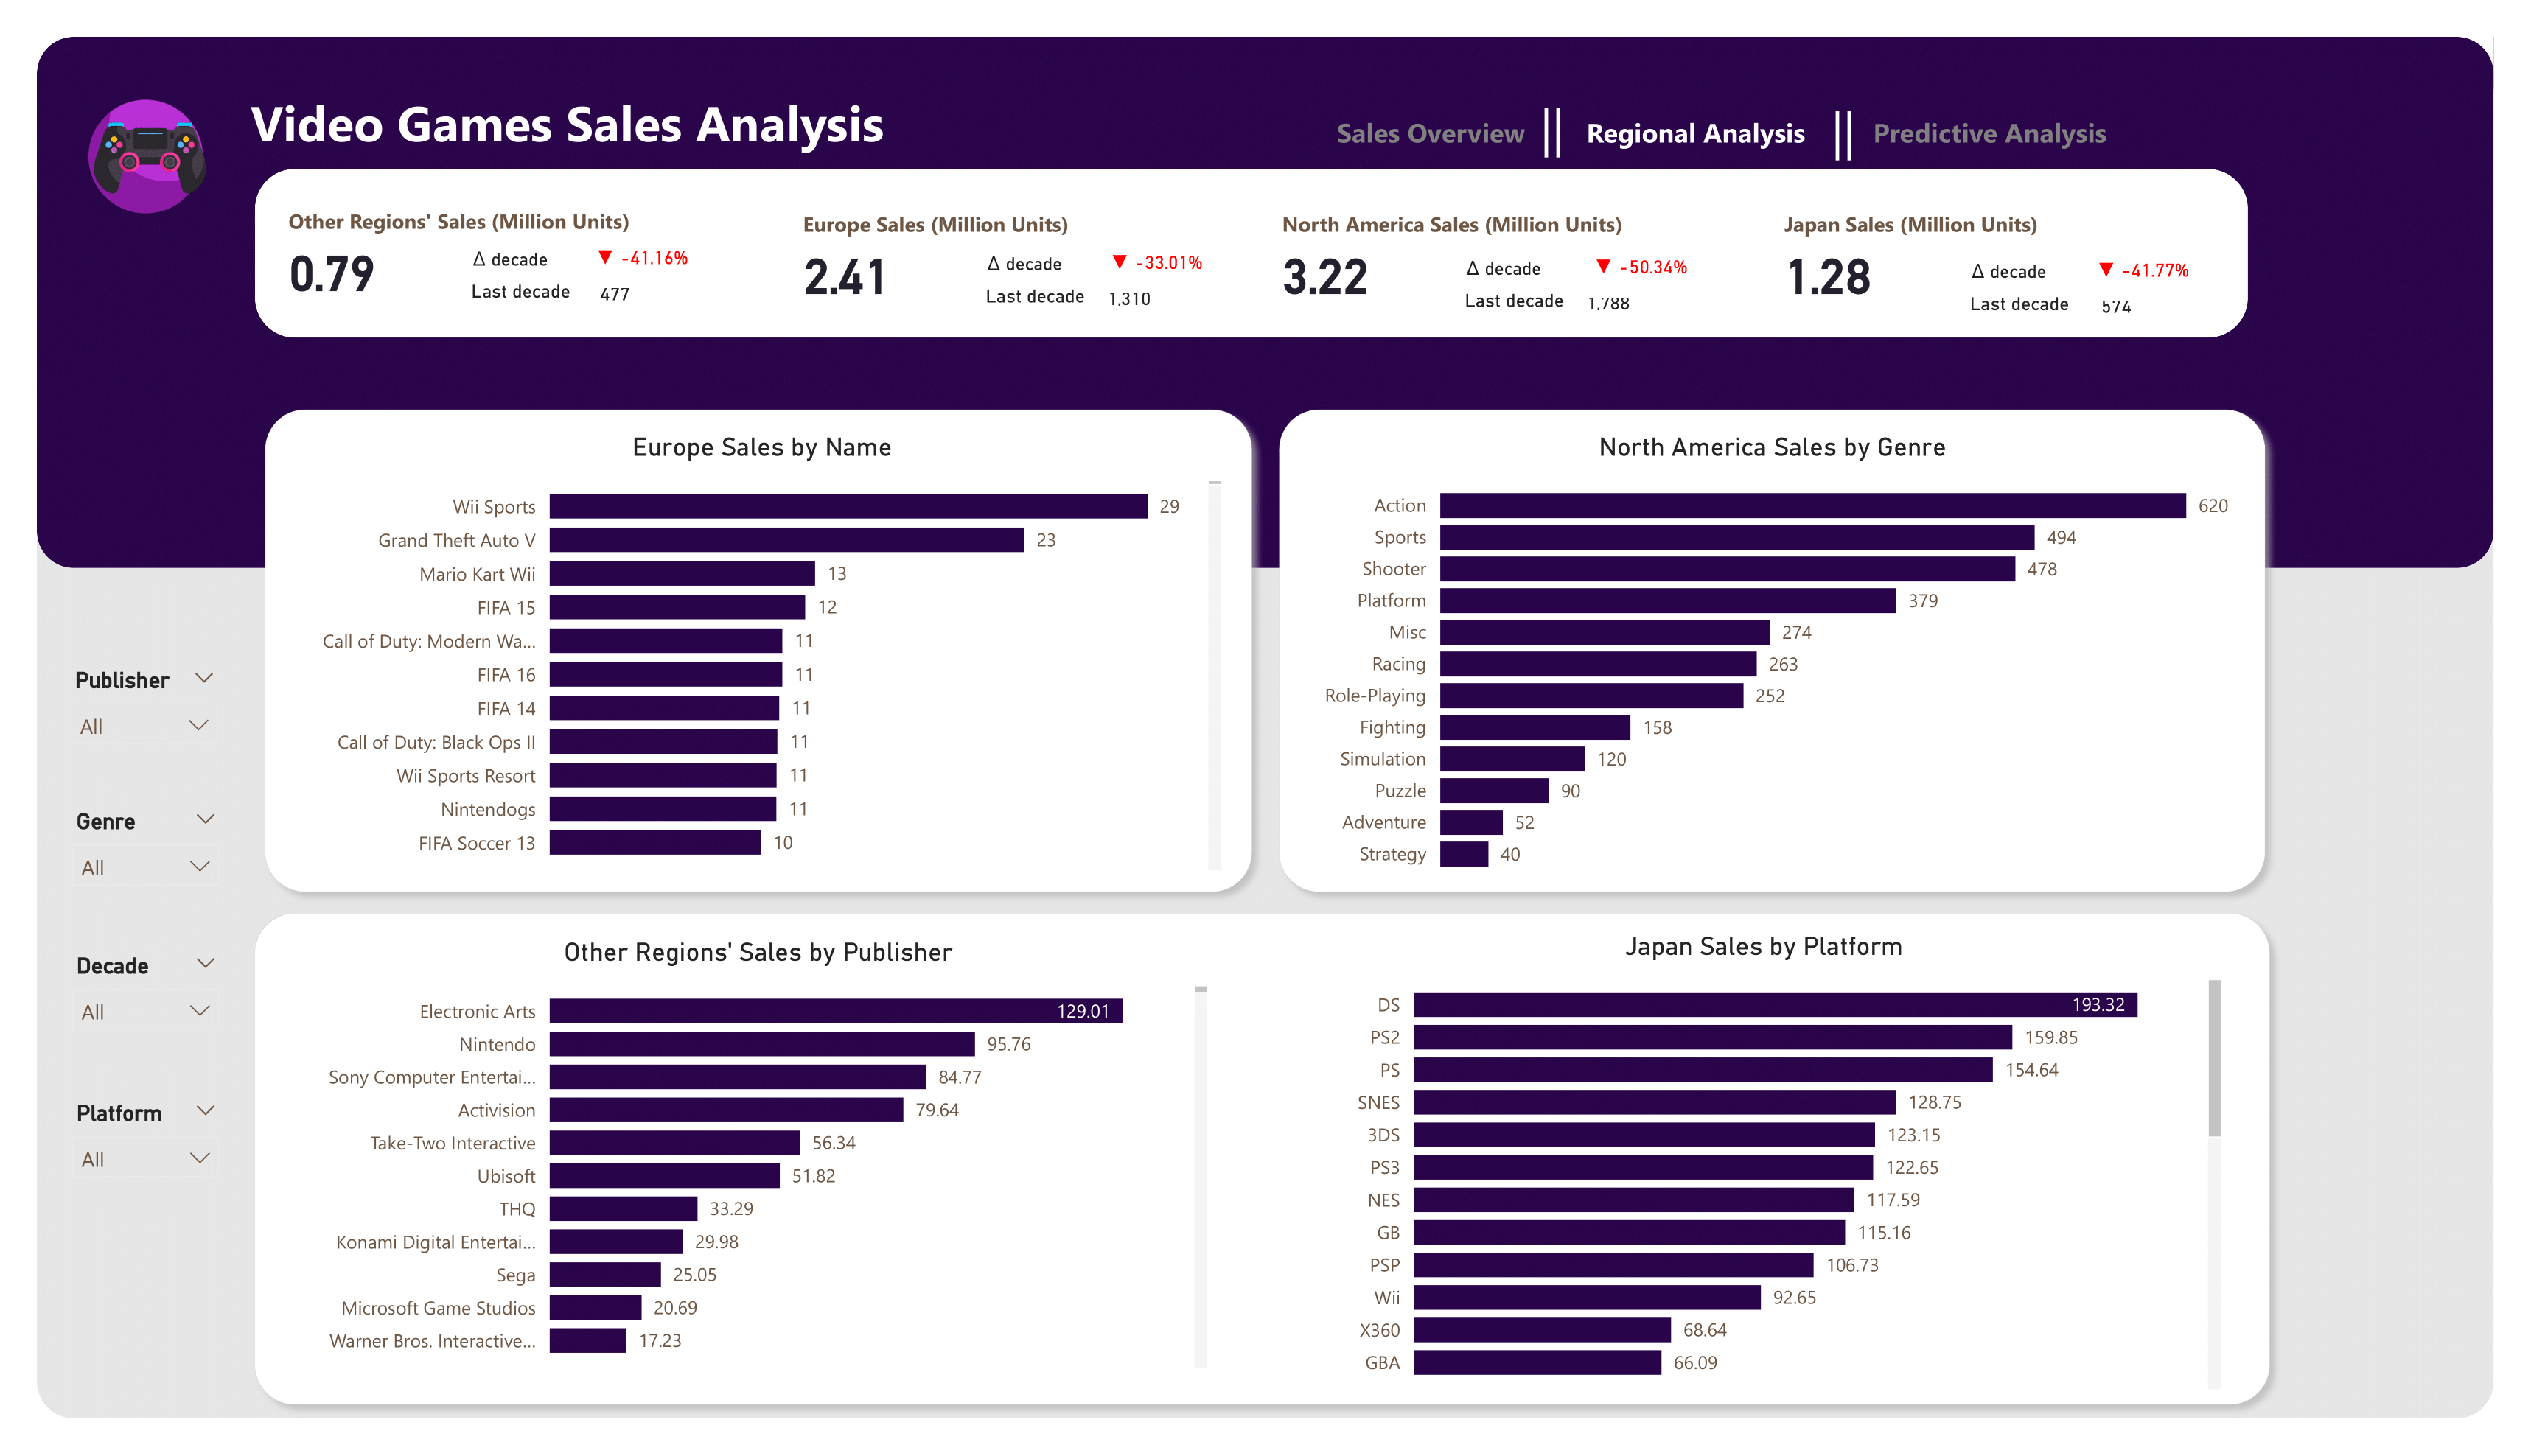

This screenshot's page, from the dashboard's own definition file:
{"tool":"powerbi","page":{"name":"Regional Sales Analysis","canvas":[1600,900],"ordinal":1},"visuals":[{"type":"group","id":"g1","title":"Wireframe","box":[0,0,1600,900],"z":0},{"type":"actionButton","box":[813.6,41.5,187.5,40],"z":0,"group":"g16"},{"type":"cardVisual","fields":{"Data":["vgsales.others_kpi_dax"]},"box":[146.7,94,302.5,99.4],"z":0,"group":"g13"},{"type":"cardVisual","fields":{"Data":["vgsales.eu_kpi_dax"]},"box":[481.6,96,302.5,99.4],"z":0,"group":"g10"},{"type":"cardVisual","fields":{"Data":["vgsales.na_kpi_dax"]},"box":[793.2,96,302.5,99.4],"z":0,"group":"g4"},{"type":"group","id":"g2","title":"jp kpi","box":[1121.1,96,302.3,100],"z":0,"group":"g12"},{"type":"cardVisual","fields":{"Data":["vgsales.jp_kpi_dax"]},"box":[1121.1,96,302.5,99.4],"z":0,"group":"g2"},{"type":"card","fields":{"Values":["vgsales.other_label_DoD"]},"box":[353.2,130.4,82.5,22.5],"z":0,"group":"g5"},{"type":"card","fields":{"Values":["vgsales.eu_label_DoD"]},"box":[687.2,133.6,82.5,22.5],"z":0,"group":"g6"},{"type":"card","fields":{"Values":["vgsales.na_label_DoD"]},"box":[997.4,136.1,93.1,22.3],"z":0,"group":"g7"},{"type":"card","fields":{"Values":["vgsales.jp_label_DoD"]},"box":[1330.2,138.1,83.5,22.4],"z":0,"group":"g8"},{"type":"shape","box":[0,202,1600,698],"z":0,"group":"g1"},{"type":"group","id":"g3","title":"europe sales","box":[168.1,256.3,607,291.1],"z":0,"group":"g15"},{"type":"clusteredBarChart","fields":{"Category":["vgsales.Name","vgsales with yearrange.Genre","vgsales with yearrange.Platform","vgsales with yearrange.Publisher"],"Y":["Sum(vgsales.EU_Sales)"]},"box":[168.1,256.3,607,291.1],"z":0,"group":"g3"},{"type":"clusteredBarChart","fields":{"Category":["vgsales.Name","vgsales with yearrange.Genre","vgsales with yearrange.Platform","vgsales with yearrange.Publisher"],"Y":["Sum(vgsales.NA_Sales)"]},"box":[826.2,256.3,607,297.2],"z":0,"group":"g9"},{"type":"clusteredBarChart","fields":{"Category":["vgsales.Name","vgsales with yearrange.Genre","vgsales with yearrange.Platform","vgsales with yearrange.Publisher"],"Y":["Sum(vgsales.JP_Sales)"]},"box":[822.5,581.8,604,304],"z":0,"group":"g11"},{"type":"slicer","fields":{"Values":["YearRangeSort.year_range"]},"box":[12.9,592.3,116,68],"z":0,"group":"g14"},{"type":"shape","box":[0,0,1600,346],"z":1000,"group":"g1"},{"type":"textbox","box":[134,28,428,102],"z":1000},{"type":"actionButton","title":"S.A Button","box":[1177.3,41.4,188.3,40],"z":1000,"group":"g16"},{"type":"group","id":"g4","title":"na kpi","box":[793.2,96,302.3,100],"z":1000,"group":"g12"},{"type":"group","id":"g5","title":"kpi sales description","box":[278.2,130.2,156.3,49],"z":1000,"group":"g13"},{"type":"group","id":"g6","title":"kpi sales description","box":[612.2,133.4,156.3,49],"z":1000,"group":"g10"},{"type":"group","id":"g7","title":"kpi sales description","box":[924.3,135.8,166.2,48.1],"z":1000,"group":"g4"},{"type":"group","id":"g8","title":"kpi sales description","box":[1254.3,137.9,159.4,47.9],"z":1000,"group":"g2"},{"type":"card","fields":{"Values":["vgsales.other_PD"]},"box":[351.4,151.8,51.2,20.7],"z":1000,"group":"g5"},{"type":"card","fields":{"Values":["vgsales.eu_PD"]},"box":[685.4,155,51.2,20.7],"z":1000,"group":"g6"},{"type":"card","fields":{"Values":["vgsales.na_PD"]},"box":[997.5,157.4,51.2,20.7],"z":1000,"group":"g7"},{"type":"card","fields":{"Values":["vgsales.jp_PD"]},"box":[1328.5,159.4,51.8,20.7],"z":1000,"group":"g8"},{"type":"group","id":"g9","title":"na sales","box":[826.2,256.3,607,297.2],"z":1000,"group":"g15"},{"type":"clusteredBarChart","fields":{"Category":["vgsales.Name","vgsales with yearrange.Genre","vgsales with yearrange.Platform","vgsales with yearrange.Publisher"],"Y":["Sum(vgsales.Other_Sales)"]},"box":[172.5,585.8,594,286],"z":1000,"group":"g11"},{"type":"slicer","fields":{"Values":["vgsales.Platform"]},"box":[12.9,688.3,116,68],"z":1000,"group":"g14"},{"type":"actionButton","title":"regional button","box":[986.8,41.3,186.2,40],"z":2000,"group":"g16"},{"type":"shape","box":[142,86,1298,110],"z":2000,"group":"g1"},{"type":"group","id":"g10","title":"eu kpi","box":[481.6,96,304.7,98],"z":2000,"group":"g12"},{"type":"textbox","box":[278.2,151.4,101.5,26.9],"z":2000,"group":"g5"},{"type":"textbox","box":[612.2,154.6,101.5,26.9],"z":2000,"group":"g6"},{"type":"textbox","box":[924.3,157,101.5,26.9],"z":2000,"group":"g7"},{"type":"textbox","box":[1254.3,159,102.8,26.8],"z":2000,"group":"g8"},{"type":"slicer","fields":{"Values":["vgsales.Genre"]},"box":[12.9,498.3,116,68],"z":2000,"group":"g14"},{"type":"group","id":"g11","title":"other region & japan sales ","box":[172.5,581.8,1254,304],"z":2000,"group":"g15"},{"type":"textbox","box":[1163.9,33.1,45,83.3],"z":3000,"group":"g16"},{"type":"group","id":"g12","title":"KPI cards","box":[146.7,94,1276.8,102],"z":3000},{"type":"group","id":"g13","title":"other kpi","box":[146.7,94,302.5,99.4],"z":3000,"group":"g12"},{"type":"textbox","box":[278.8,130.2,86.6,27.3],"z":3000,"group":"g5"},{"type":"textbox","box":[612.8,133.4,86.6,27.3],"z":3000,"group":"g6"},{"type":"textbox","box":[924.9,135.8,86.6,27.3],"z":3000,"group":"g7"},{"type":"textbox","box":[1254.9,137.9,87.7,27.2],"z":3000,"group":"g8"},{"type":"shape","box":[132.5,561.8,1330,338],"z":3000,"group":"g1"},{"type":"textbox","box":[973.2,31.1,45,83.3],"z":4000,"group":"g16"},{"type":"shape","box":[799.5,233.8,660.3,332.1],"z":4000,"group":"g1"},{"type":"group","id":"g14","title":"Slicers","box":[12.9,498.3,116,258],"z":4000},{"type":"shape","box":[139.2,233.8,660.3,332.1],"z":5000,"group":"g1"},{"type":"slicer","fields":{"Values":["vgsales.Publisher"]},"box":[12,406,116,68],"z":5000},{"type":"group","id":"g15","title":"regional sales","box":[168.1,256.3,1265.1,629.5],"z":6000},{"type":"group","id":"g16","title":"buttons","box":[813.6,31.1,551.7,85],"z":7000},{"type":"image","box":[22.5,35,98.8,86.2],"z":7500}]}

Visuals, with their boxes on the page's 1600x900 design canvas (x1, y1, x2, y2). These are canvas units, not pixel positions in the 2531x1456 screenshot, which may show the page scaled, cropped or inside an application window:
"Wireframe" group: locate(0, 0, 1600, 900)
actionButton: locate(814, 42, 1001, 82)
cardVisual - vgsales.others_kpi_dax: locate(147, 94, 449, 193)
cardVisual - vgsales.eu_kpi_dax: locate(482, 96, 784, 195)
cardVisual - vgsales.na_kpi_dax: locate(793, 96, 1096, 195)
"jp kpi" group: locate(1121, 96, 1423, 196)
cardVisual - vgsales.jp_kpi_dax: locate(1121, 96, 1424, 195)
card - vgsales.other_label_DoD: locate(353, 130, 436, 153)
card - vgsales.eu_label_DoD: locate(687, 134, 770, 156)
card - vgsales.na_label_DoD: locate(997, 136, 1090, 158)
card - vgsales.jp_label_DoD: locate(1330, 138, 1414, 160)
shape: locate(0, 202, 1600, 900)
"europe sales" group: locate(168, 256, 775, 547)
clusteredBarChart - vgsales.Name x vgsales with yearrange.Genre: locate(168, 256, 775, 547)
clusteredBarChart - vgsales.Name x vgsales with yearrange.Genre: locate(826, 256, 1433, 554)
clusteredBarChart - vgsales.Name x vgsales with yearrange.Genre: locate(822, 582, 1426, 886)
slicer - YearRangeSort.year_range: locate(13, 592, 129, 660)
shape: locate(0, 0, 1600, 346)
textbox: locate(134, 28, 562, 130)
"S.A Button" actionButton: locate(1177, 41, 1366, 81)
"na kpi" group: locate(793, 96, 1096, 196)
"kpi sales description" group: locate(278, 130, 434, 179)
"kpi sales description" group: locate(612, 133, 768, 182)
"kpi sales description" group: locate(924, 136, 1090, 184)
"kpi sales description" group: locate(1254, 138, 1414, 186)
card - vgsales.other_PD: locate(351, 152, 403, 172)
card - vgsales.eu_PD: locate(685, 155, 737, 176)
card - vgsales.na_PD: locate(998, 157, 1049, 178)
card - vgsales.jp_PD: locate(1328, 159, 1380, 180)
"na sales" group: locate(826, 256, 1433, 554)
clusteredBarChart - vgsales.Name x vgsales with yearrange.Genre: locate(172, 586, 766, 872)
slicer - vgsales.Platform: locate(13, 688, 129, 756)
"regional button" actionButton: locate(987, 41, 1173, 81)
shape: locate(142, 86, 1440, 196)
"eu kpi" group: locate(482, 96, 786, 194)
textbox: locate(278, 151, 380, 178)
textbox: locate(612, 155, 714, 182)
textbox: locate(924, 157, 1026, 184)
textbox: locate(1254, 159, 1357, 186)
slicer - vgsales.Genre: locate(13, 498, 129, 566)
"other region & japan sales " group: locate(172, 582, 1426, 886)
textbox: locate(1164, 33, 1209, 116)
"KPI cards" group: locate(147, 94, 1424, 196)
"other kpi" group: locate(147, 94, 449, 193)
textbox: locate(279, 130, 365, 158)
textbox: locate(613, 133, 699, 161)
textbox: locate(925, 136, 1012, 163)
textbox: locate(1255, 138, 1343, 165)
shape: locate(132, 562, 1462, 900)
textbox: locate(973, 31, 1018, 114)
shape: locate(800, 234, 1460, 566)
"Slicers" group: locate(13, 498, 129, 756)
shape: locate(139, 234, 800, 566)
slicer - vgsales.Publisher: locate(12, 406, 128, 474)
"regional sales" group: locate(168, 256, 1433, 886)
"buttons" group: locate(814, 31, 1365, 116)
image: locate(22, 35, 121, 121)
